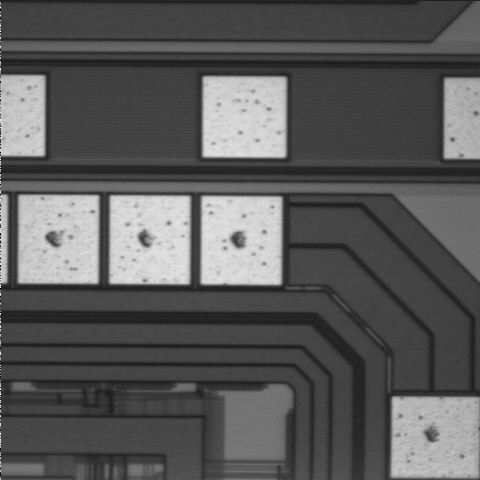pad: (201, 196, 281, 285), (110, 196, 190, 284), (19, 195, 98, 283), (392, 398, 478, 477), (203, 77, 286, 157)
